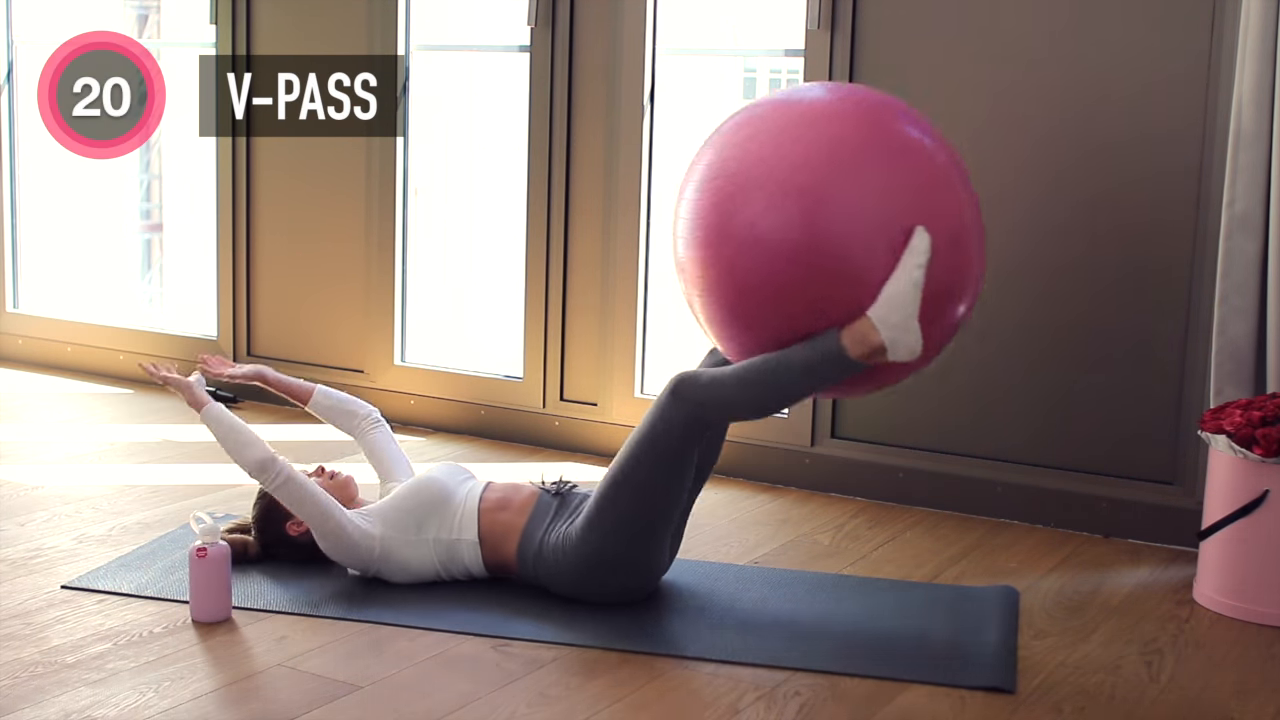yogaball: (670, 79, 993, 403)
